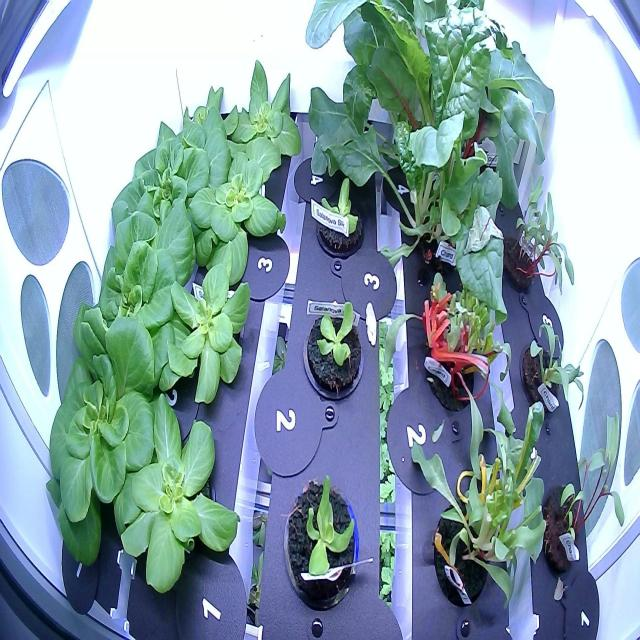young: (38, 309, 170, 573), (105, 384, 246, 601), (71, 197, 206, 406), (100, 110, 232, 286), (270, 461, 369, 624), (159, 252, 260, 407), (184, 143, 288, 291), (210, 53, 306, 191), (299, 282, 370, 408), (155, 68, 240, 159), (306, 167, 368, 269)
